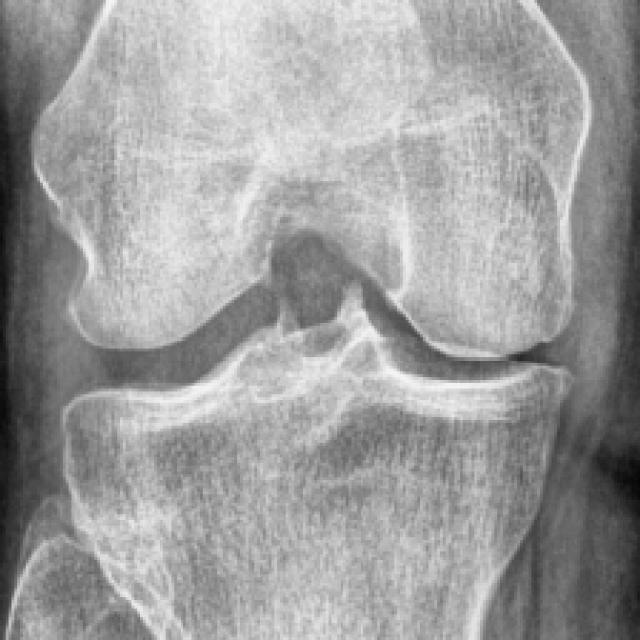femur: (37, 1, 586, 360)
tibia: (62, 303, 574, 640)
